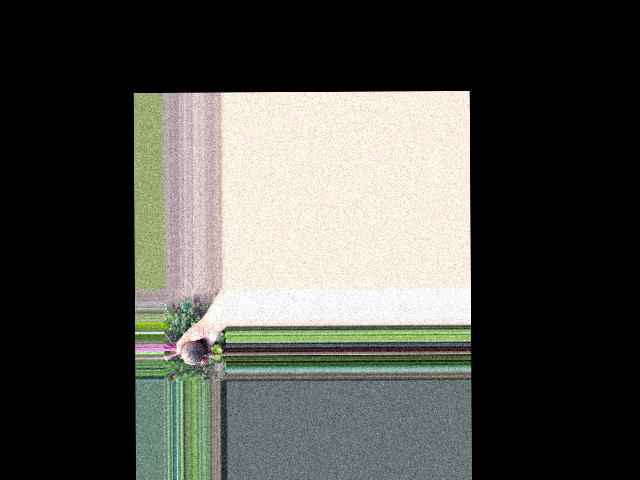beet: (163, 331, 227, 375)
